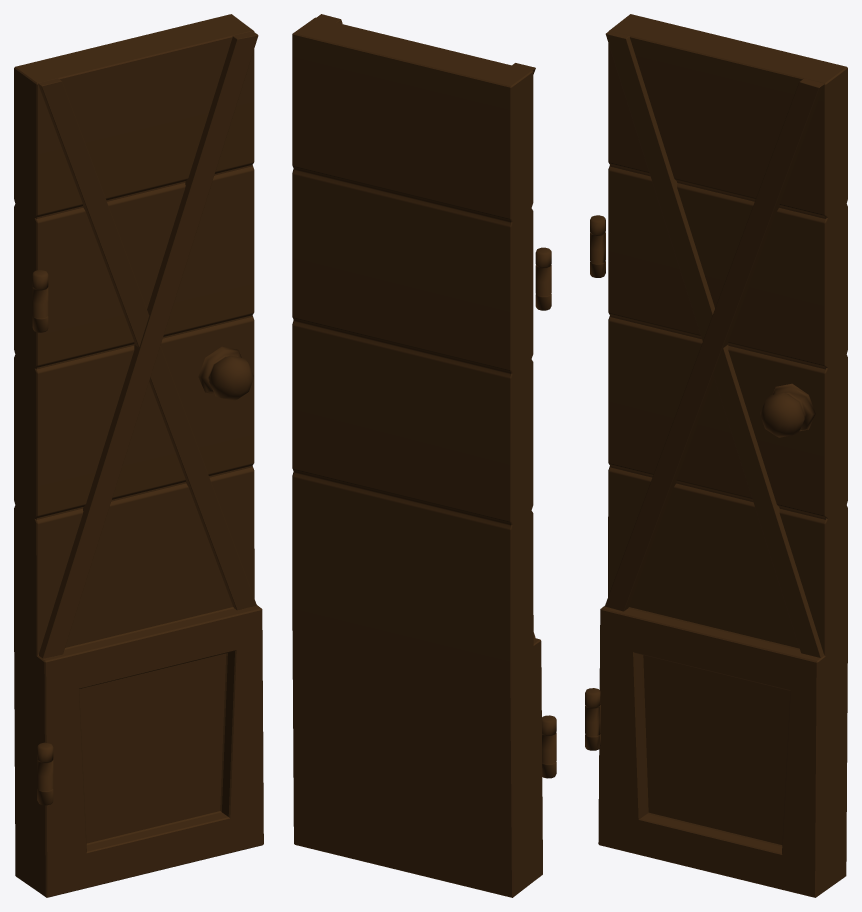
File: SM_Carriage_Door_L_Unity.fbx
3 views of the same model, side by side, from view 1: azimuth 30°, elevation 25°; view 2: azimuth 150°, elevation 25°; view 3: azimuth 330°, elevation 25° (orthographic).
Visible parts, largest first — view 1: SM_Carriage_Door_handel_low; view 2: SM_Carriage_Door_handel_low; view 3: SM_Carriage_Door_handel_low.
Part boxes in pixels (x1=…): SM_Carriage_Door_handel_low: x1=14, y1=14, x2=263, y2=897; SM_Carriage_Door_handel_low: x1=292, y1=14, x2=556, y2=897; SM_Carriage_Door_handel_low: x1=585, y1=14, x2=847, y2=897.
Size of the model in its own units: 65.87 by 223 by 21.26.
